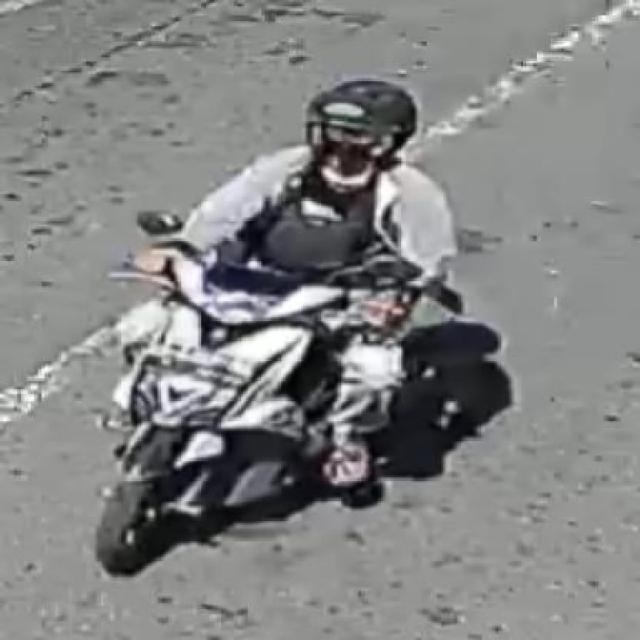helmet: (274, 73, 424, 192)
motorcycle: (46, 69, 514, 587)
